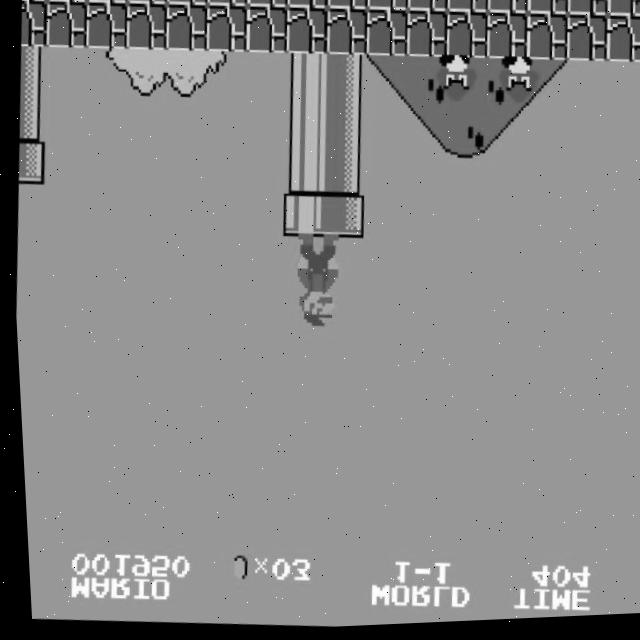0- big_mario: (286, 234, 339, 333)
14- pipe: (322, 55, 368, 106), (282, 54, 328, 104), (319, 147, 365, 197), (321, 101, 367, 151), (281, 99, 326, 150), (279, 146, 325, 195), (17, 45, 47, 94), (16, 92, 46, 140)
15- pipe_head: (278, 191, 324, 242), (318, 192, 364, 243), (15, 138, 45, 186)
17- undestructible_block: (83, 1, 129, 52), (123, 2, 169, 53), (243, 6, 289, 57), (323, 9, 369, 60), (523, 16, 569, 67), (43, 0, 89, 50), (163, 4, 209, 54), (203, 5, 249, 55), (283, 8, 329, 58), (363, 11, 409, 61), (403, 12, 449, 62), (443, 14, 489, 64), (483, 15, 529, 65), (563, 18, 609, 68), (603, 19, 640, 69), (19, 0, 48, 48), (565, 0, 609, 23), (525, 0, 569, 21), (485, 0, 529, 20), (605, 0, 640, 24), (445, 0, 489, 18), (405, 0, 449, 17), (365, 0, 409, 16), (325, 0, 369, 14), (285, 0, 329, 13), (245, 0, 289, 11), (205, 0, 249, 10), (165, 0, 209, 8), (125, 0, 168, 7), (85, 0, 128, 6), (45, 0, 88, 4)
8- goomba: (430, 56, 478, 110), (492, 58, 540, 112)
